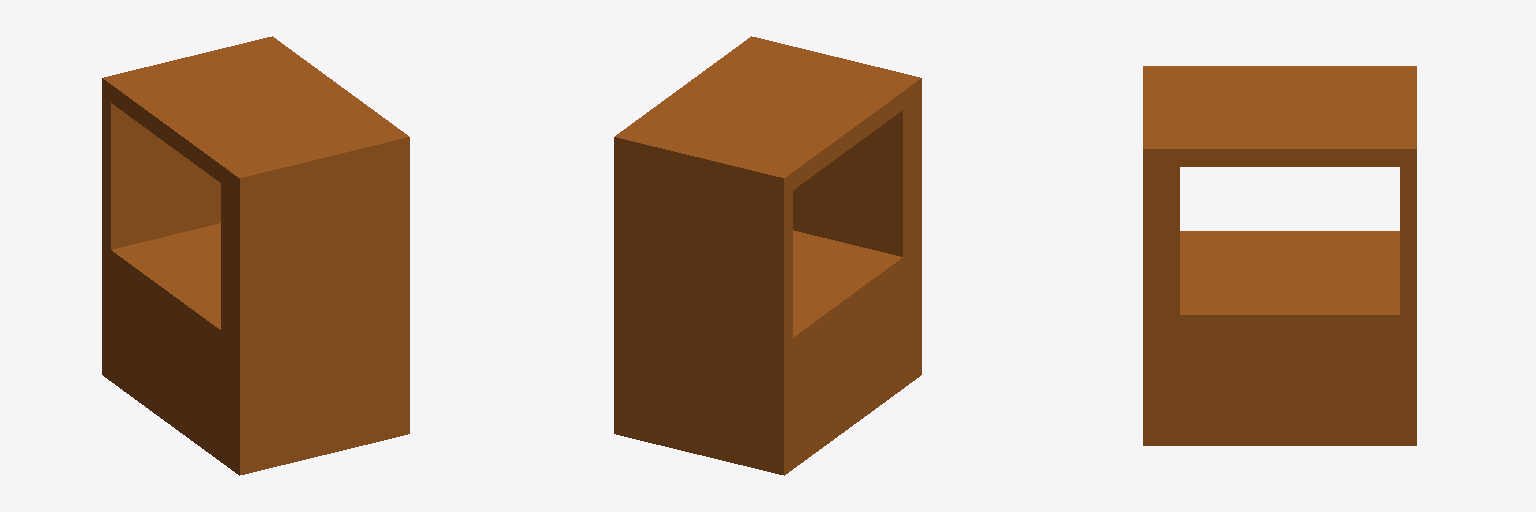
The model's file is table2.obj.
The picture shows the model from 3 angles: view 1: azimuth 30°, elevation 25°; view 2: azimuth 150°, elevation 25°; view 3: azimuth 270°, elevation 25°; orthographic projection.
Parts seen in each view (by area): view 1: obj_0; view 2: obj_0; view 3: obj_0.
Boxes of the visible parts, box(x1,y1,x2,y2) form: obj_0: box(102, 36, 409, 475); obj_0: box(614, 36, 921, 475); obj_0: box(1143, 66, 1416, 445).
Size of the model in its own units: 15.75 by 26.25 by 22.